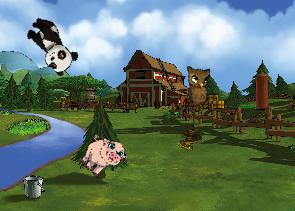owl: (181, 61, 220, 113)
panda: (19, 12, 82, 78)
pig: (74, 128, 130, 184)
